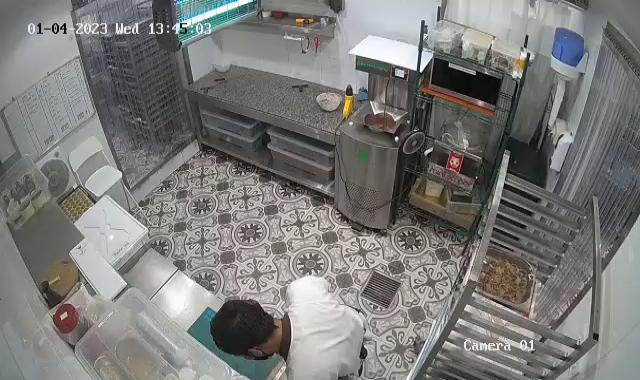no_hairnet: (210, 294, 273, 362)
